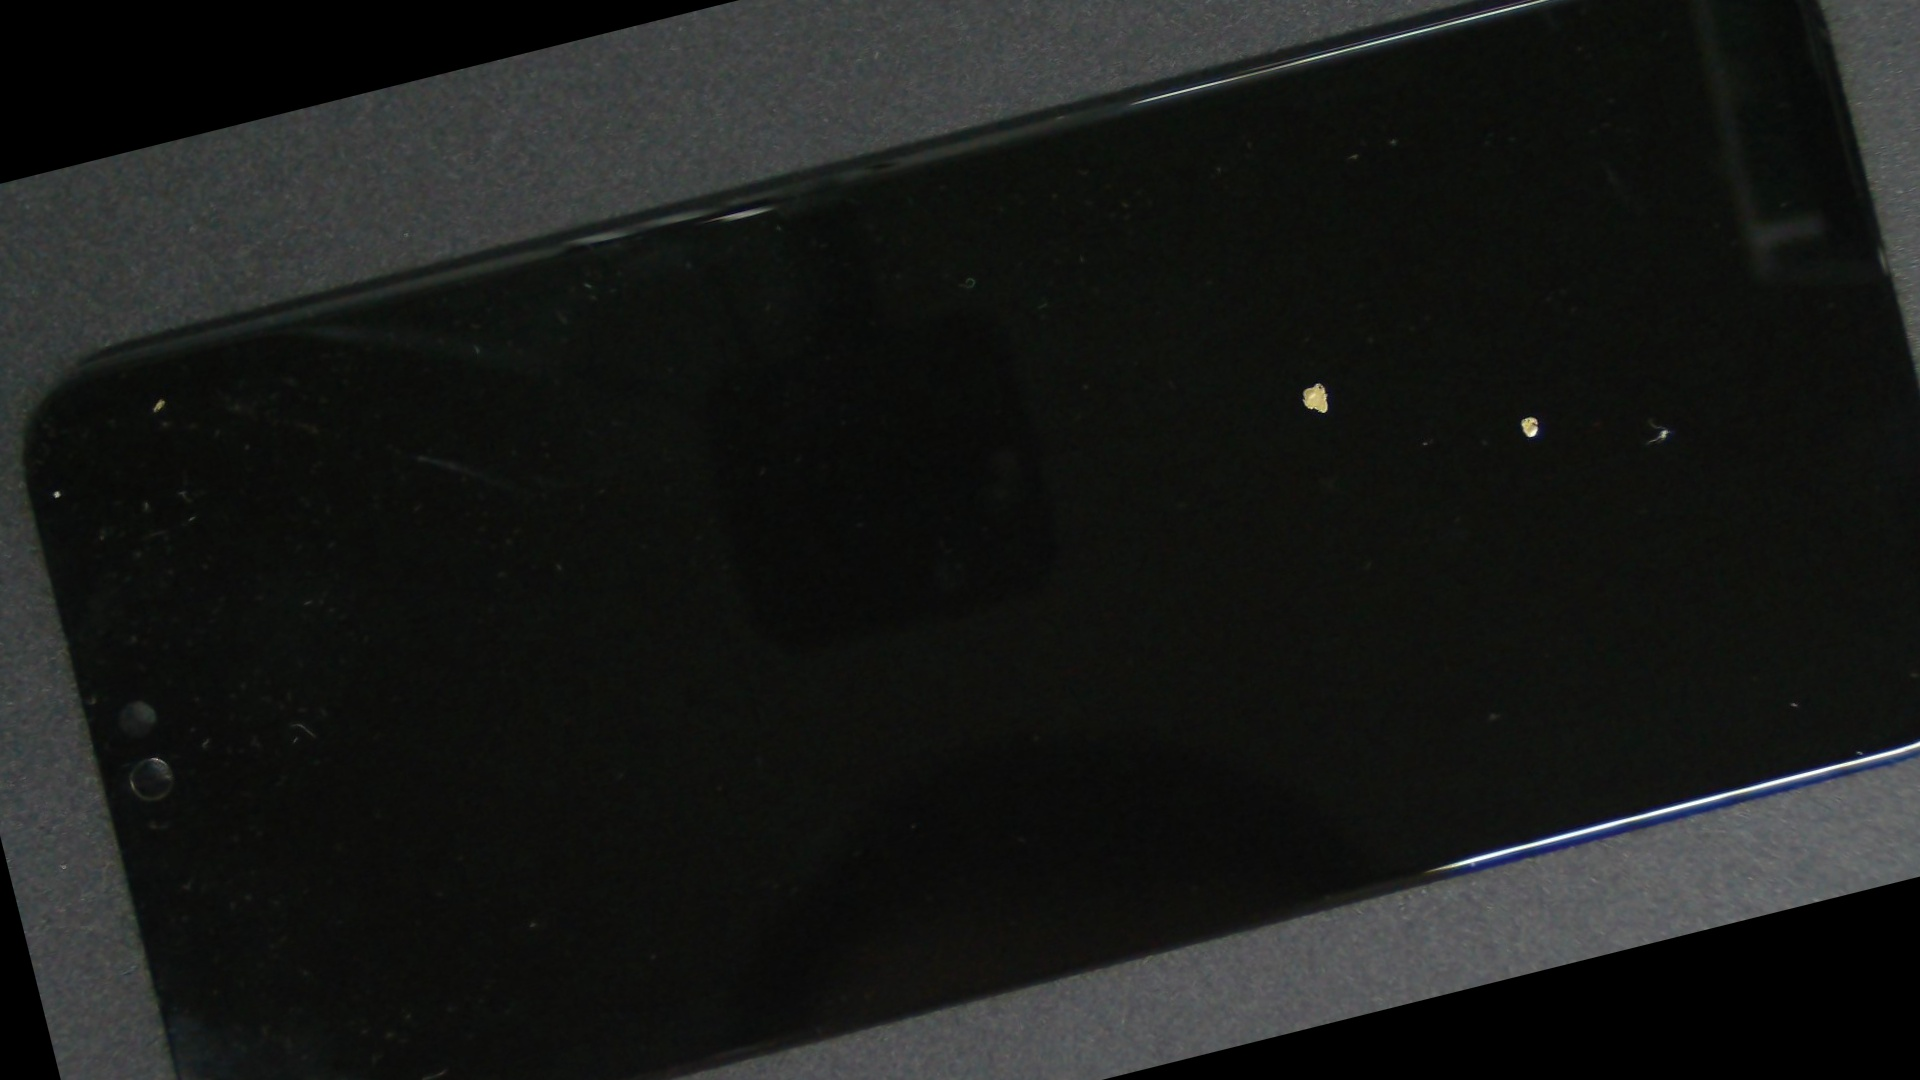oil: (686, 7, 1920, 897), (582, 0, 1920, 799)
